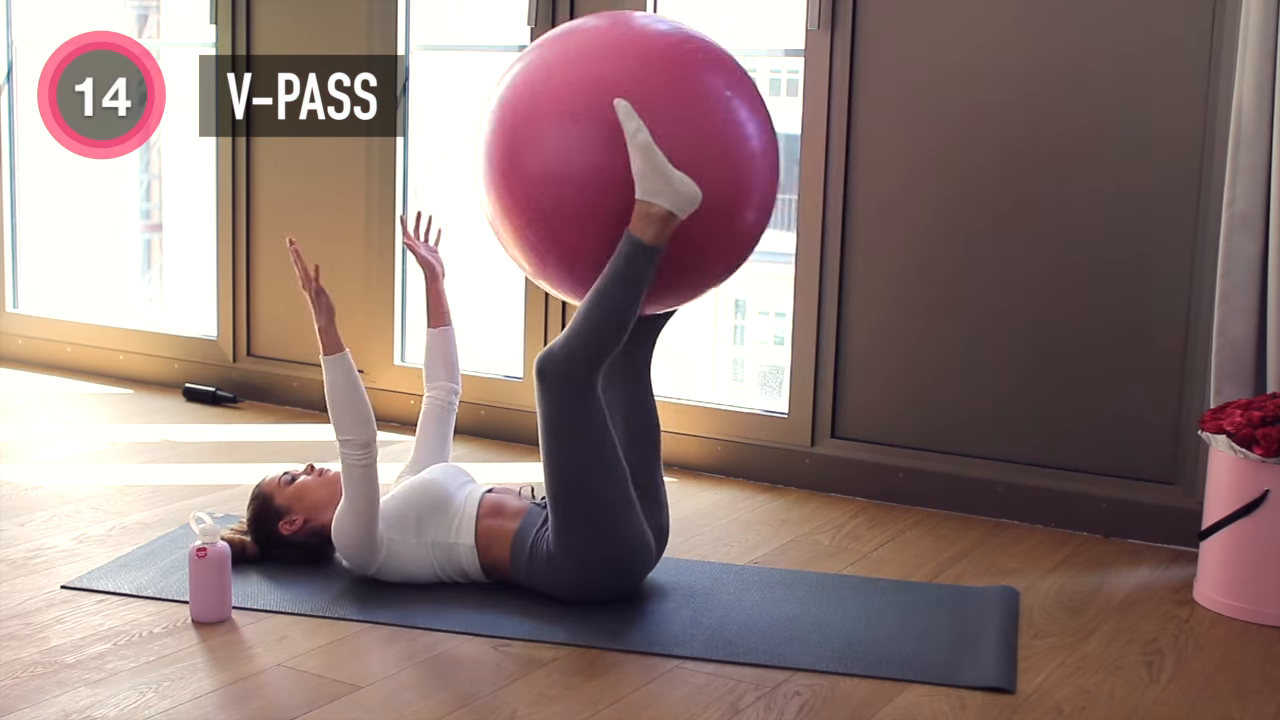yogaball: (476, 8, 786, 319)
